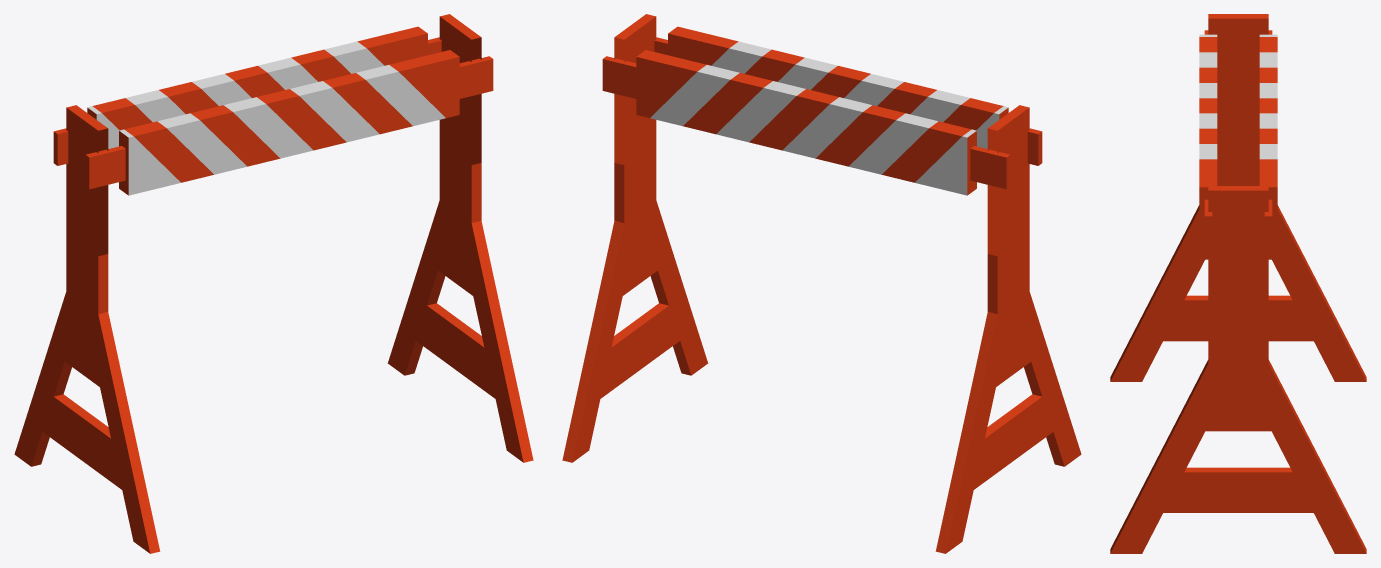
The picture shows the model from 3 angles, left to right: view 1: azimuth 30°, elevation 25°; view 2: azimuth 150°, elevation 25°; view 3: azimuth 270°, elevation 25°; orthographic projection. The views are drawn at different scales.
Visible parts, largest first — view 1: O5; view 2: O5; view 3: O5.
Part boxes in pixels (box(x1,y1,x2,y2)): O5: box(14, 14, 533, 553); O5: box(562, 14, 1081, 553); O5: box(1110, 14, 1366, 553).
Bounding box in the file's own units: 244 × 222 × 142.
